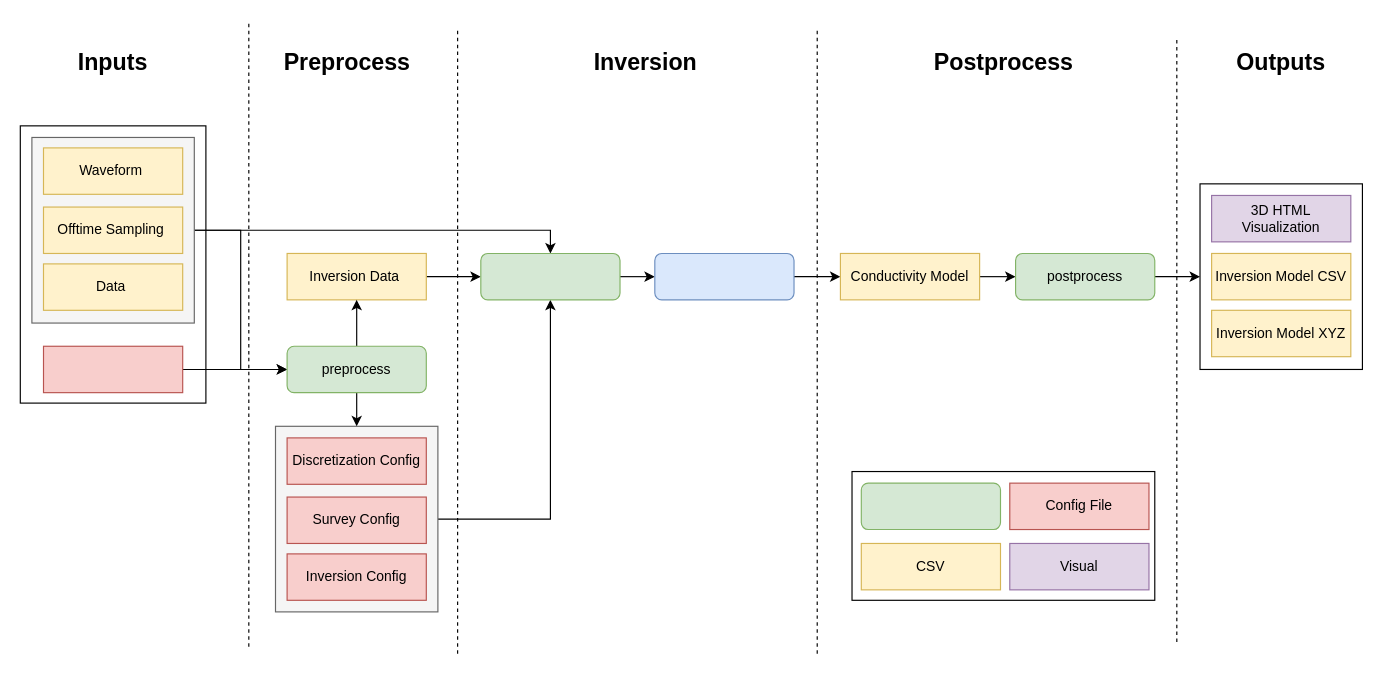
Image size: 1383x675. Some labels were removed from this diagram. The shapes that lost their labels are listed below. From the top down, each one's centre as x and y in pixels, then its label:
the point at 550,276: run
the point at 724,276: Astrape Inversion Engine
the point at 112,369: System Config
the point at 930,506: Astrape
